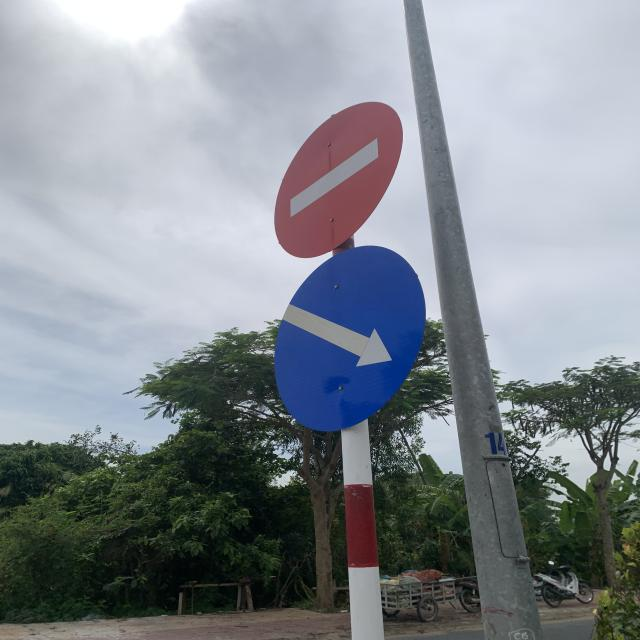Cam_Di_Nguoc_Chieu: (274, 101, 404, 260)
Chi_Huong_Di_Phai: (274, 244, 427, 436)
